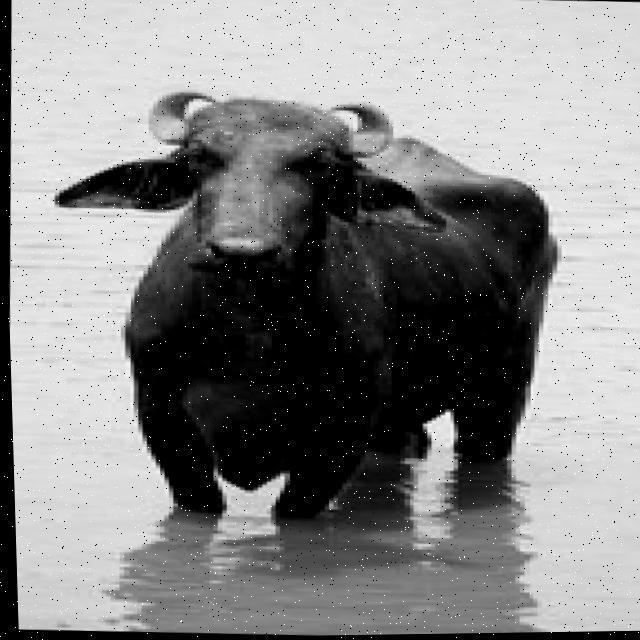Buffalo: (36, 76, 570, 533)
